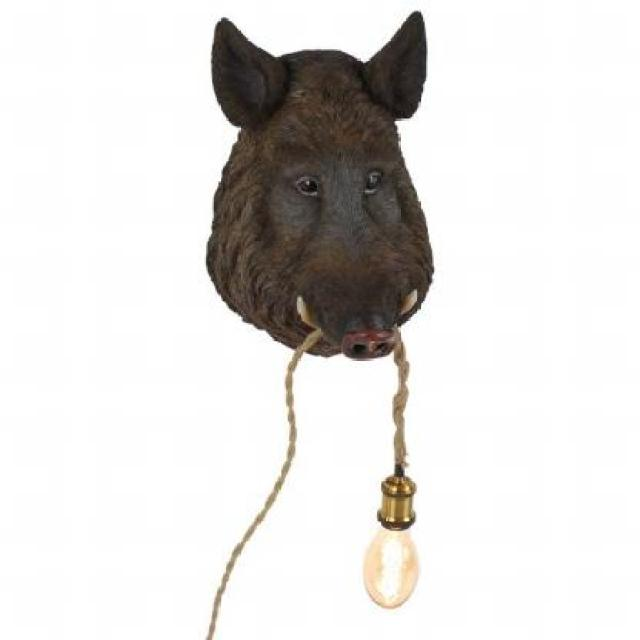wildboar: (200, 4, 445, 382)
